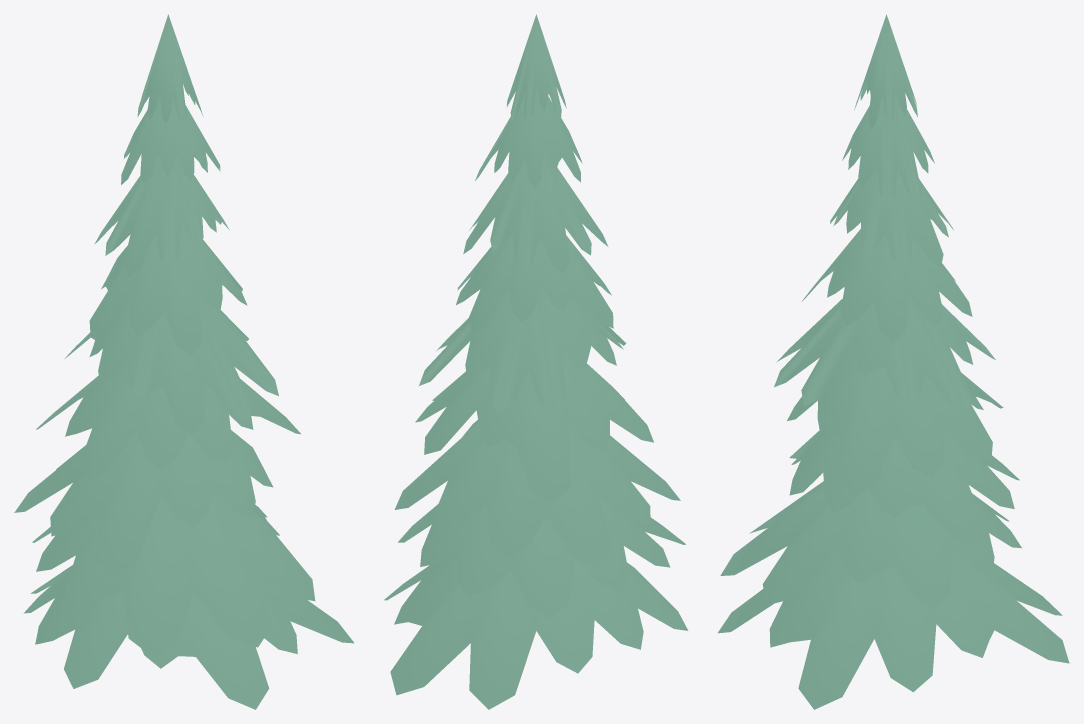
The model's file is Blender_Cedar_3.glb.
3 views of the same model, side by side, from view 1: azimuth 30°, elevation 25°; view 2: azimuth 150°, elevation 25°; view 3: azimuth 270°, elevation 25° (orthographic). The views are drawn at different scales.
Visible parts, largest first — view 1: Blender_Cedar_3; view 2: Blender_Cedar_3; view 3: Blender_Cedar_3.
Boxes of the visible parts, <box> form: Blender_Cedar_3: <box>14,14,354,709</box>; Blender_Cedar_3: <box>384,14,688,709</box>; Blender_Cedar_3: <box>718,14,1069,709</box>.
Size of the model in its own units: 12.99 by 28.93 by 14.75.
